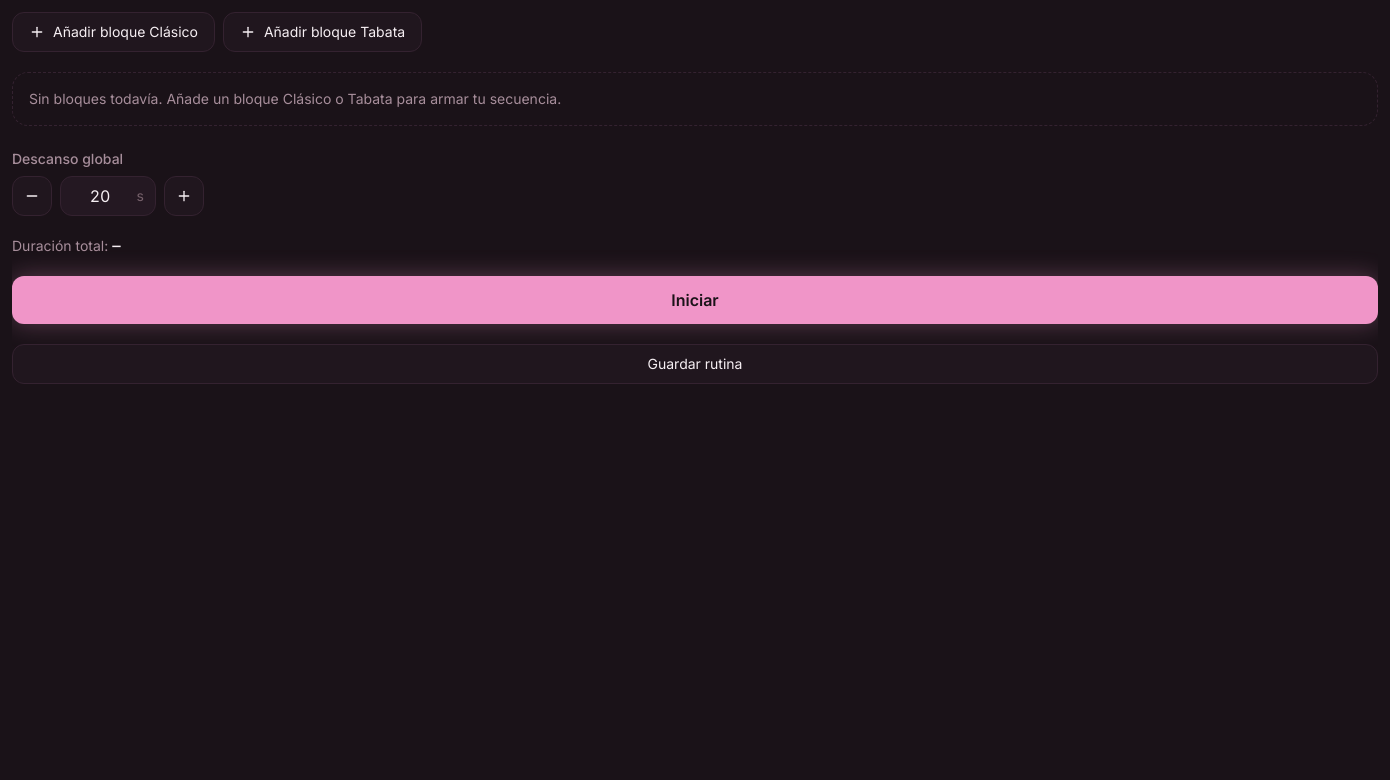
PersonalizadoBuilder — validación (spec builder) › el descanso global valida como toda duración y bloquea el inicio
Click the button "Añadir bloque Clásico" at [113, 32], box [12,12,215,52]
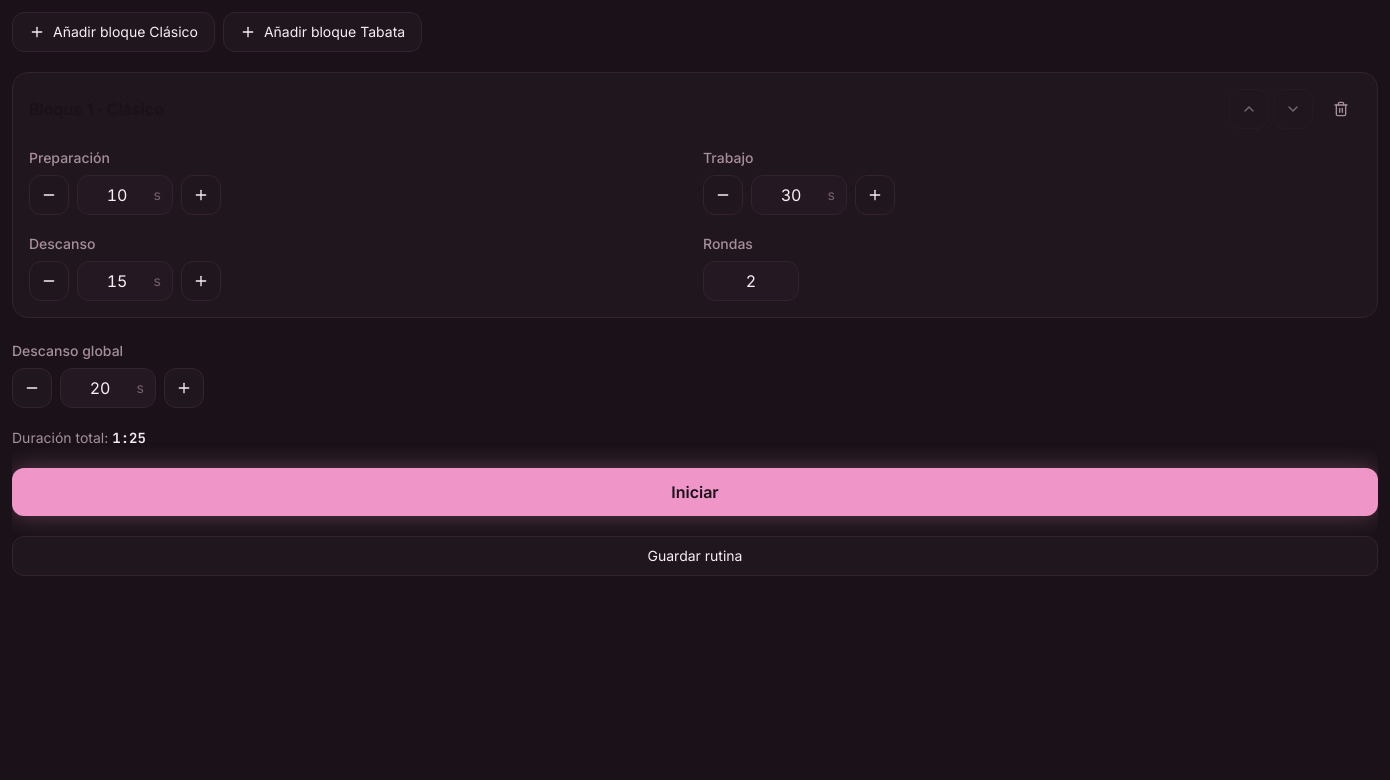
Replace the text in the field labelled "Descanso global" with "0" at [108, 388], box [60,368,156,408]
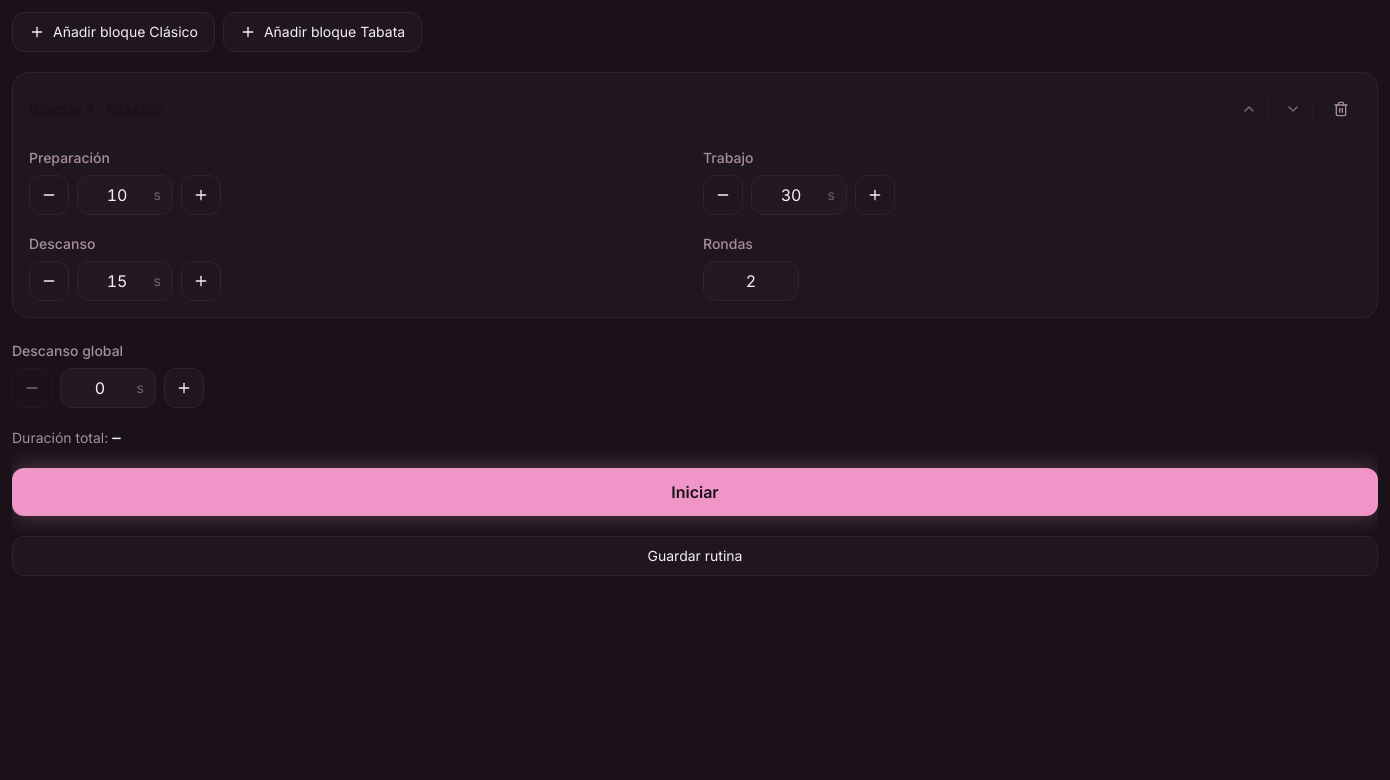
Click the button "Iniciar" at [695, 492], box [12,468,1378,516]
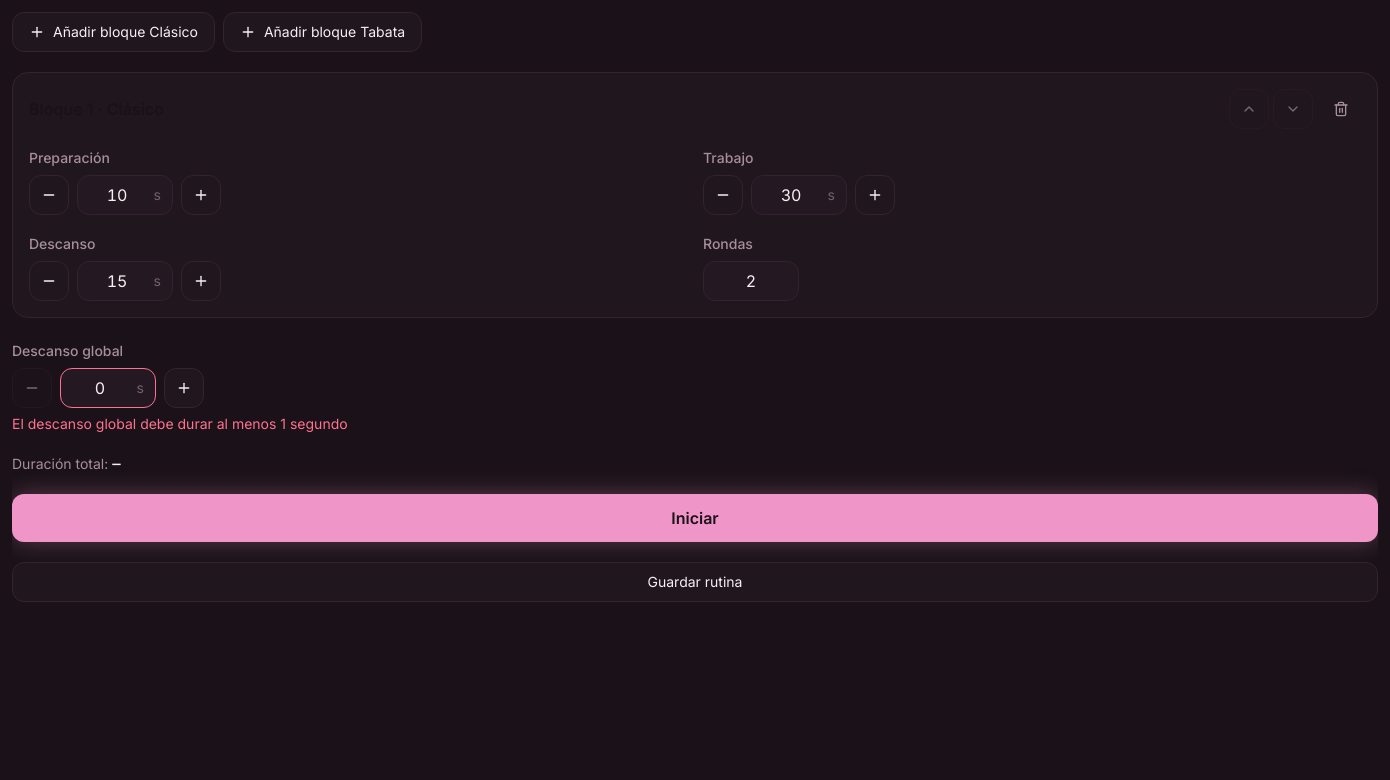
Now the text "El descanso global debe durar al menos 1 segundo" is shown, box [12,415,348,432]
